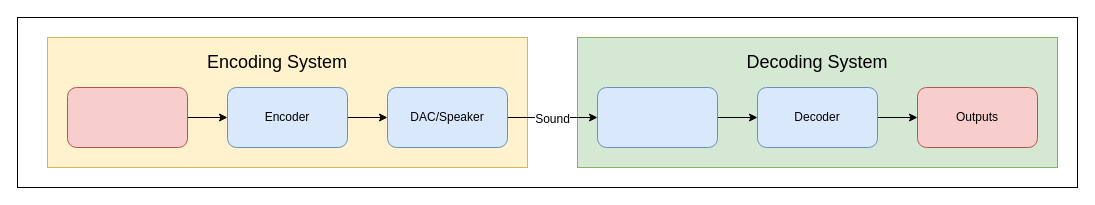
Some shapes in this 1095 by 205 pixel diagram are drawn without their labels. The centre of each missing label's shape, as x and y in pixels:
"Electret/ADC" belongs at (657,117).
"Inputs" belongs at (127,117).
